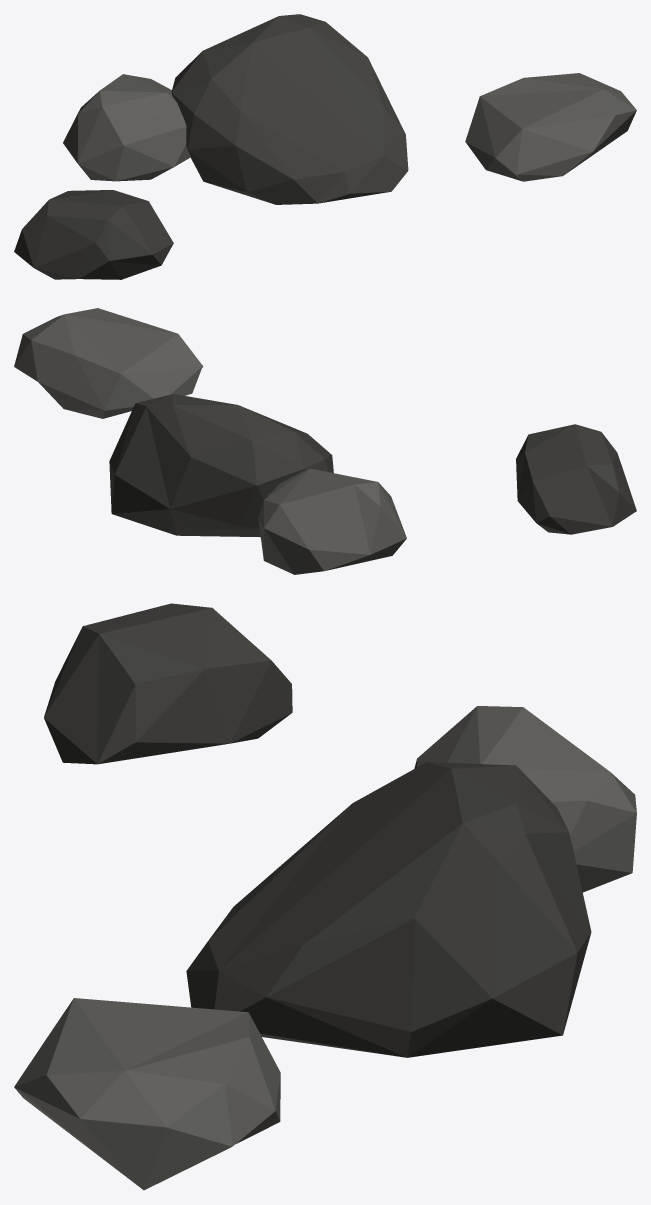
File: SM_Env_Rock_Pebbles_05.fbx
The picture shows the model from 3 angles, top to bottom: view 1: azimuth 30°, elevation 25°; view 2: azimuth 150°, elevation 25°; view 3: azimuth 270°, elevation 25°; orthographic projection. The views are drawn at different scales.
Visible parts, largest first — view 1: SM_Env_Rock_Pebbles_05; view 2: SM_Env_Rock_Pebbles_05; view 3: SM_Env_Rock_Pebbles_05.
Boxes of the visible parts, box(x1,y1,x2,y2) form: SM_Env_Rock_Pebbles_05: box(14, 14, 636, 279); SM_Env_Rock_Pebbles_05: box(14, 308, 636, 574); SM_Env_Rock_Pebbles_05: box(14, 603, 636, 1190).
Bounding box in the file's own units: 150 × 29.06 × 76.52.
1 material, 1 textured.
